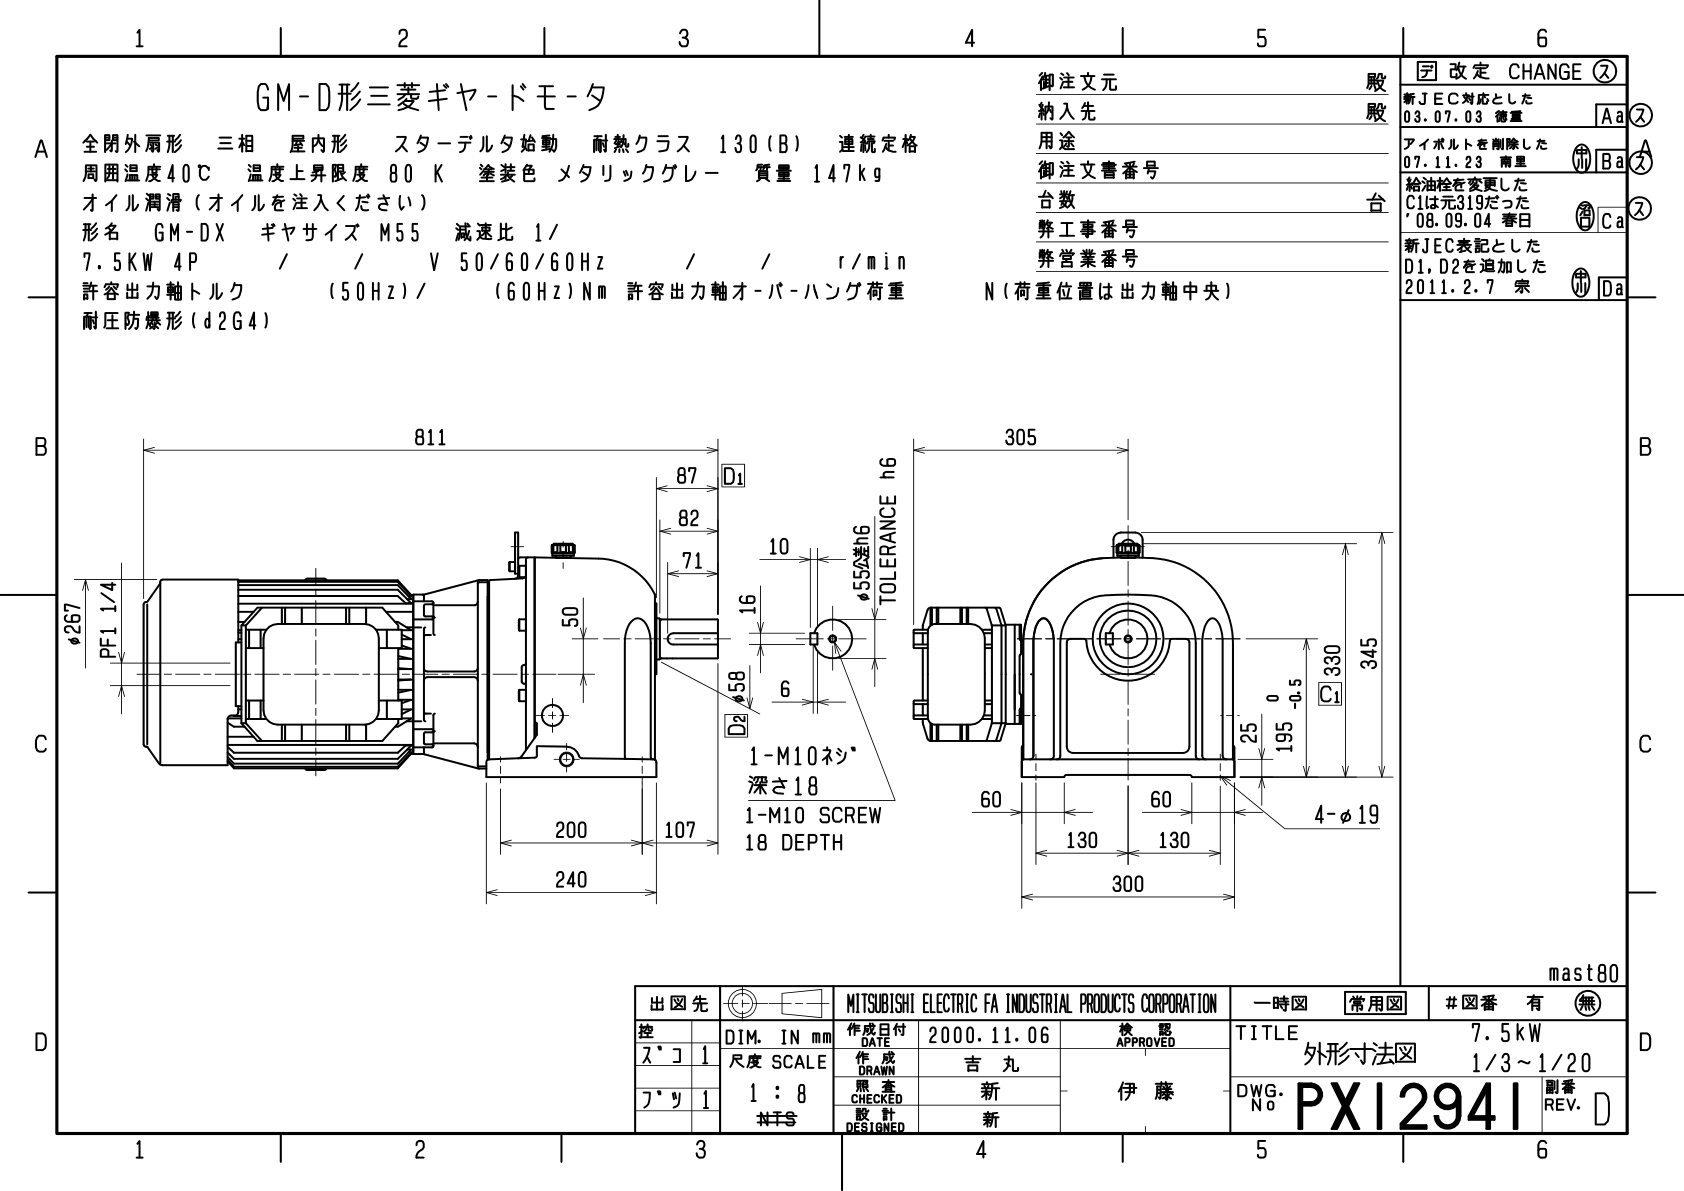GM_D_耐圧屋内_三相_脚: (9, 6, 1684, 1191)
